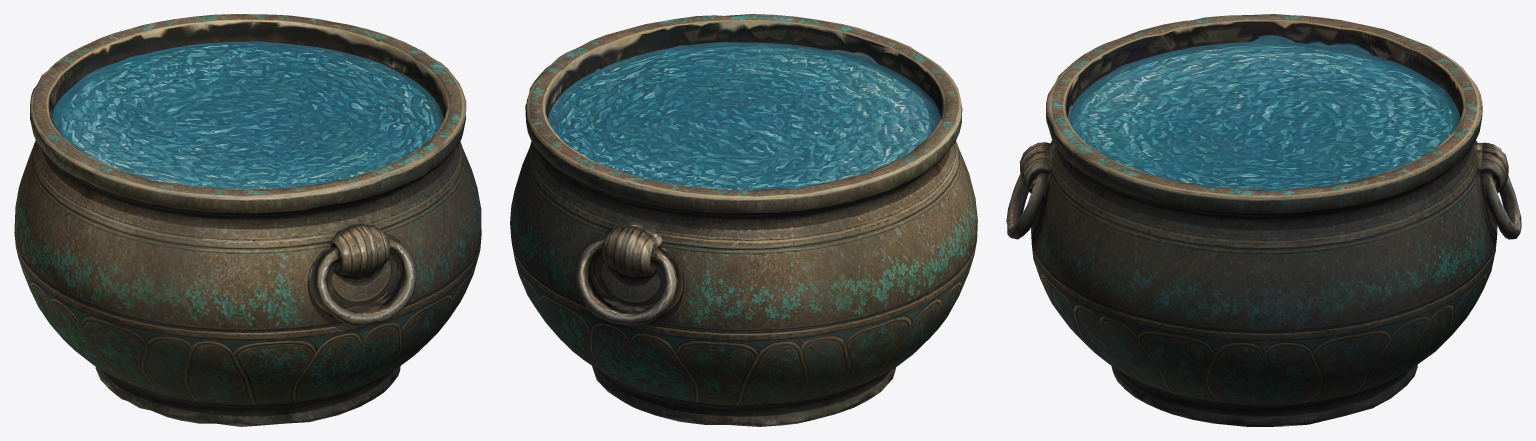
Rendered from 경복궁_드므.glb.
3 views of the same model, side by side, from view 1: azimuth 30°, elevation 25°; view 2: azimuth 150°, elevation 25°; view 3: azimuth 270°, elevation 25° (orthographic).
Parts seen in each view (by area): view 1: texture_mapping; view 2: texture_mapping; view 3: texture_mapping.
Part boxes in pixels (x1,y1,x2,y2): texture_mapping: (14, 14, 481, 426); texture_mapping: (510, 14, 977, 426); texture_mapping: (1006, 14, 1521, 426).
Size of the model in its own units: 0.9085 by 0.555 by 0.9999.
1 material, 1 textured.
